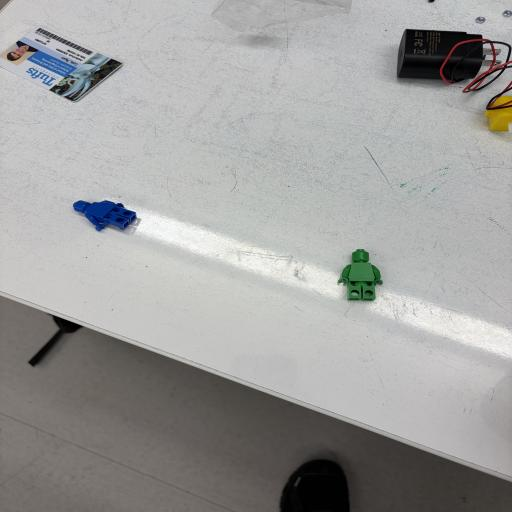Blue-Lego: (73, 200, 137, 231)
Green-Lego: (338, 249, 382, 301)
